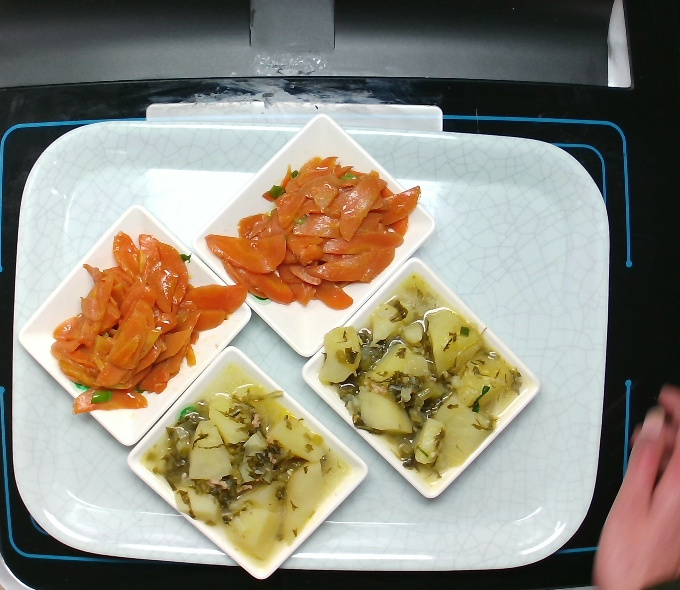wcq-HuLuoBo: (42, 227, 232, 422), (222, 152, 414, 302)
wcq-XueCaiTuDou: (315, 282, 506, 479), (155, 376, 345, 559)
